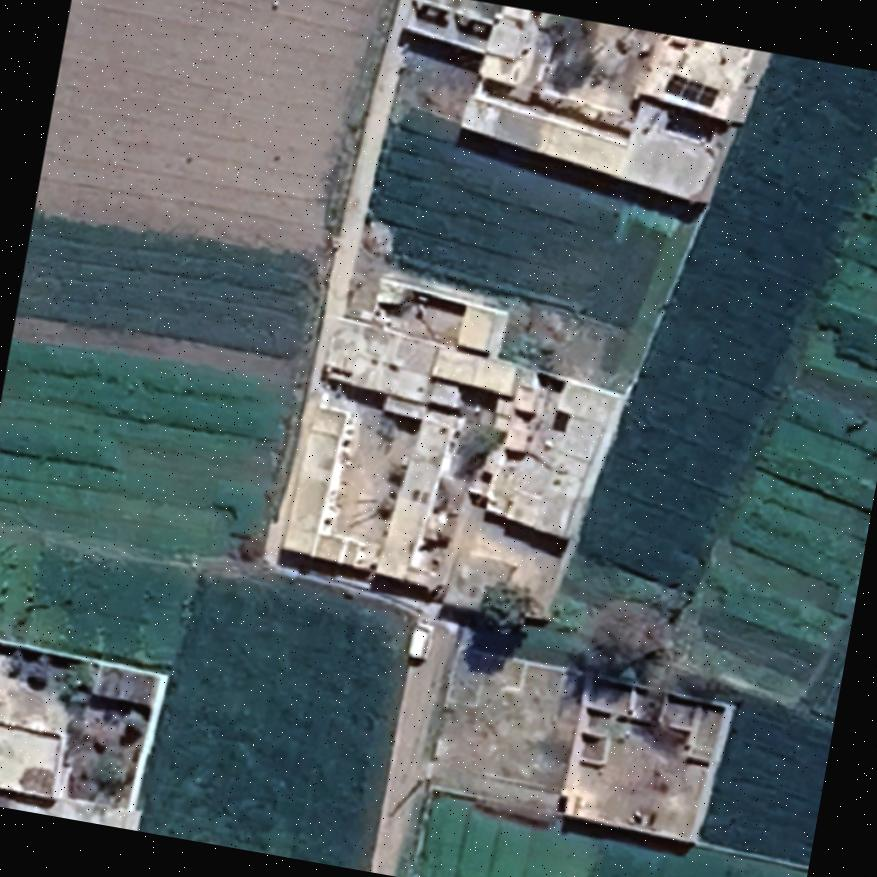Solarpanel: (657, 66, 726, 113)
